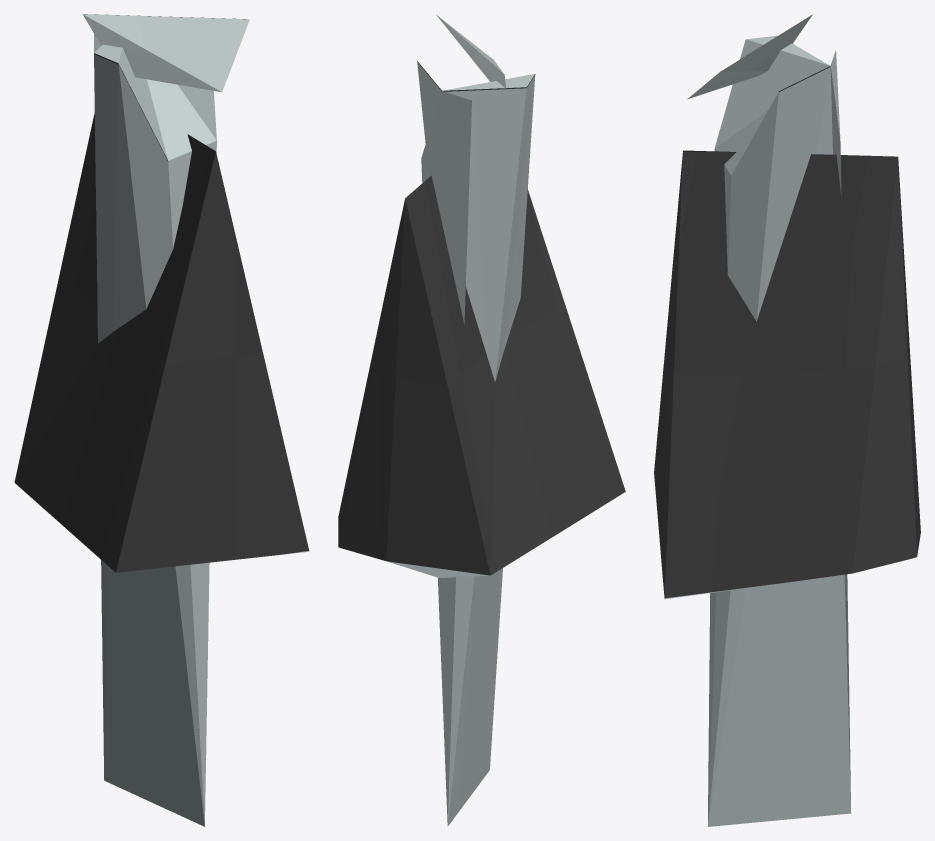
File: pj003-geode.glb
3 renders of one model, left to right at view 1: azimuth 30°, elevation 25°; view 2: azimuth 150°, elevation 25°; view 3: azimuth 270°, elevation 25°, orthographic. The views are drawn at different scales.
Visible parts, largest first — view 1: Node; view 2: Node; view 3: Node.
Part boxes in pixels (bbox=[...]): Node: bbox=[14, 14, 309, 826]; Node: bbox=[338, 14, 625, 826]; Node: bbox=[654, 14, 920, 826].
Bounding box in the file's own units: 0.0938 × 0.3492 × 0.1083.
Materials: 1 (1 with a texture image).
